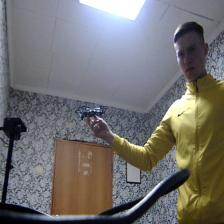drone: (73, 100, 111, 128)
